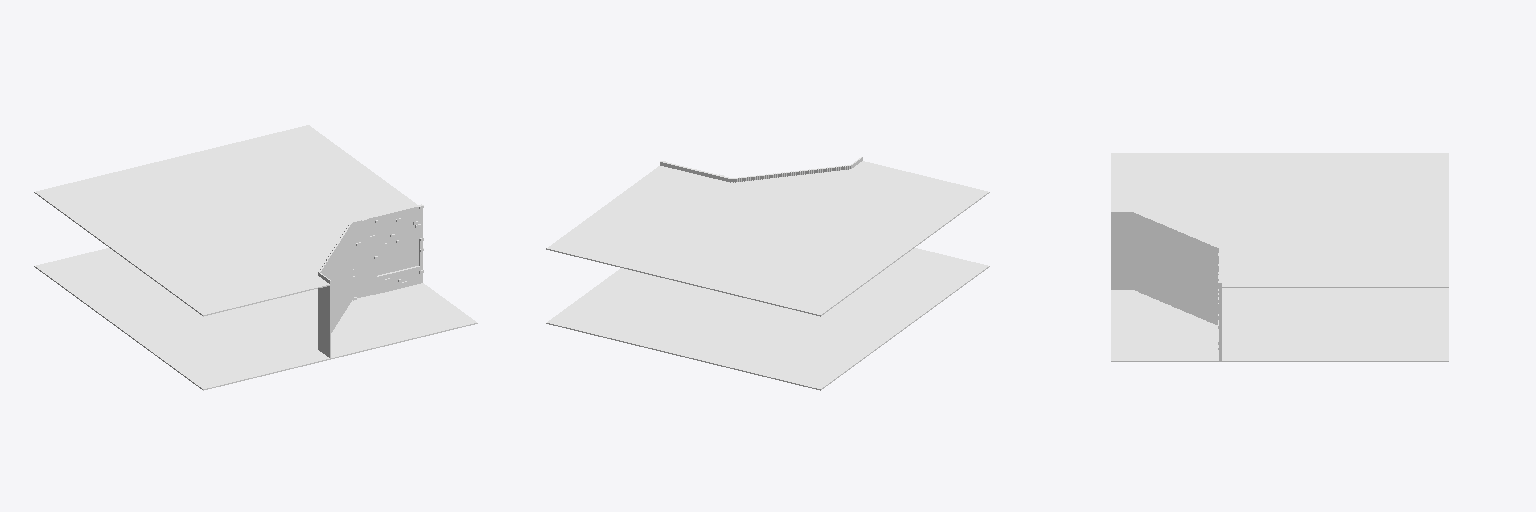
Rendered from ExtraBuildings2.obj.
The picture shows the model from 3 angles: view 1: azimuth 30°, elevation 25°; view 2: azimuth 150°, elevation 25°; view 3: azimuth 270°, elevation 25°; orthographic projection.
Visible parts, largest first — view 1: object 1; view 2: object 1; view 3: object 1.
Part boxes in pixels (x1,y1,x2,y2): object 1: (34, 125, 477, 390); object 1: (546, 157, 989, 390); object 1: (1111, 153, 1448, 361).
Bounding box in the file's own units: 24 × 6.6 × 25.6.